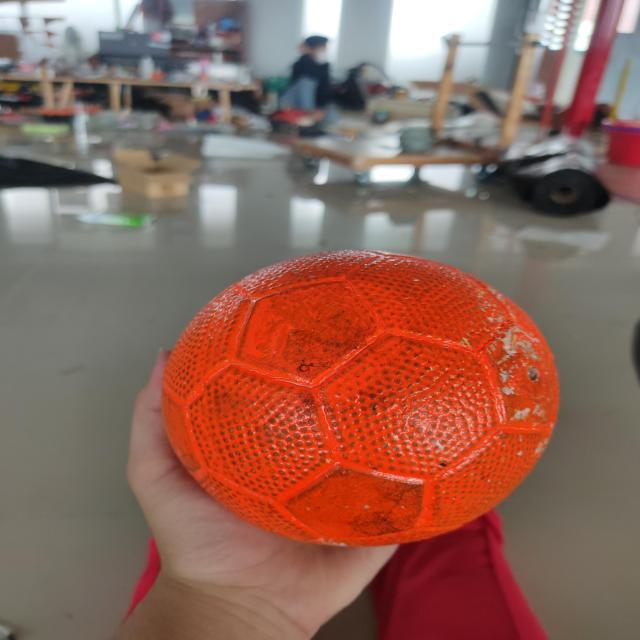bola: (172, 249, 577, 558)
